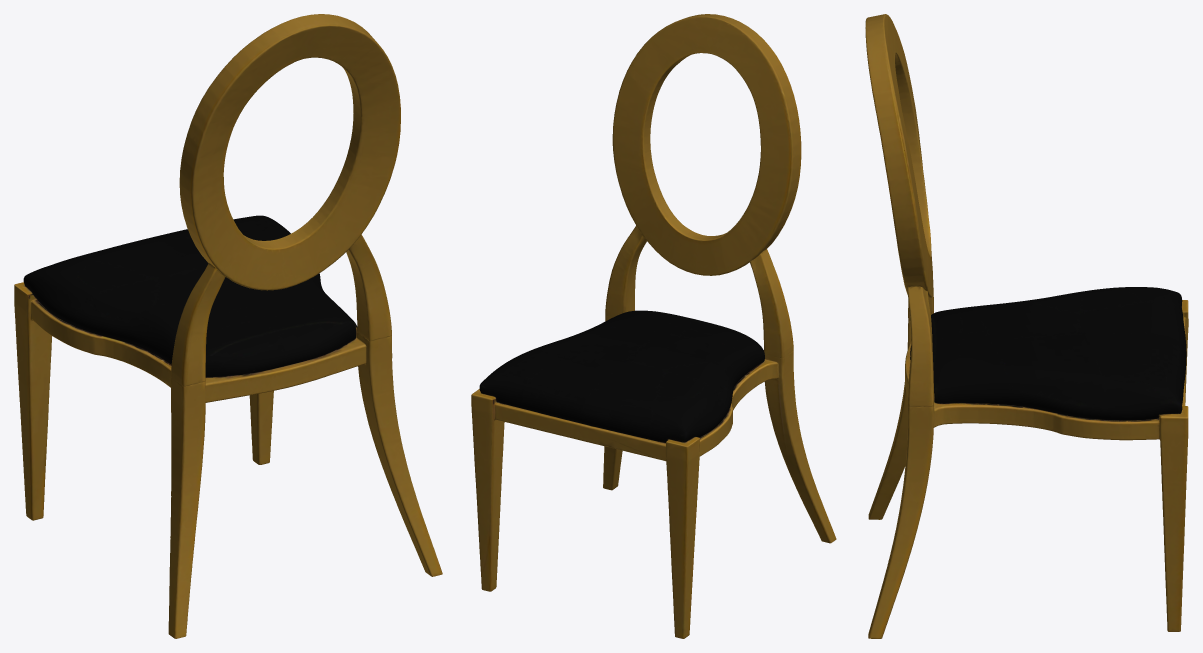
The model's file is chair-gold-black.glb.
3 views of the same model, side by side, from view 1: azimuth 30°, elevation 25°; view 2: azimuth 150°, elevation 25°; view 3: azimuth 270°, elevation 25° (orthographic). The views are drawn at different scales.
Visible parts, largest first — view 1: tripo_node_693eb2da-bd77-4e96-9279-35930a9f8bef; view 2: tripo_node_693eb2da-bd77-4e96-9279-35930a9f8bef; view 3: tripo_node_693eb2da-bd77-4e96-9279-35930a9f8bef.
Boxes of the visible parts, box(x1,y1,x2,y2) form: tripo_node_693eb2da-bd77-4e96-9279-35930a9f8bef: box(14, 14, 442, 638); tripo_node_693eb2da-bd77-4e96-9279-35930a9f8bef: box(471, 14, 836, 638); tripo_node_693eb2da-bd77-4e96-9279-35930a9f8bef: box(865, 14, 1188, 638).
Size of the model in its own units: 0.4412 by 0.92 by 0.4855.
Materials: 1 (1 with a texture image).
